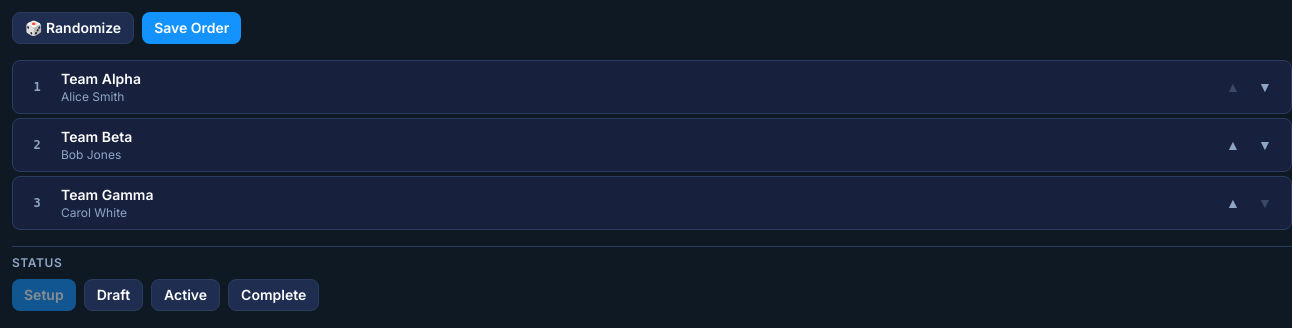
it: DraftOrderManager › shows saved confirmation after successful save
Step 1. Click the button "Save Order" → x=192, y=28, box [142,12,242,44]
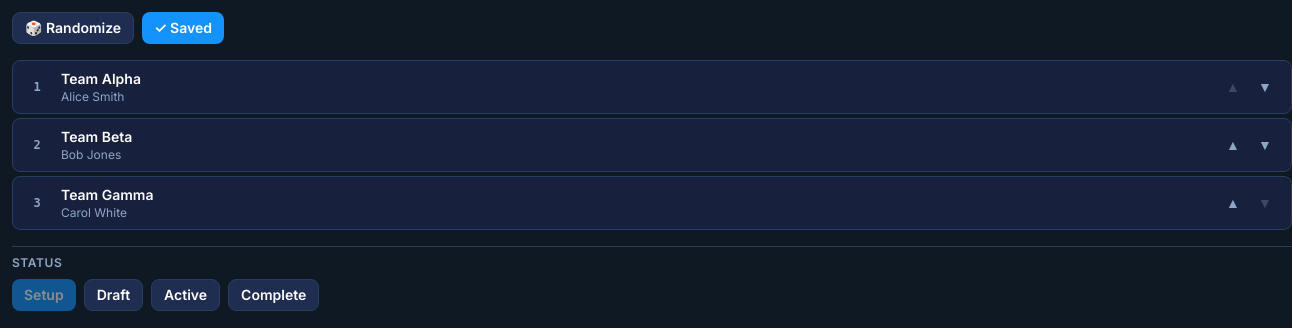
Check: the button "✓ Saved" is shown, box [142,12,224,44]
